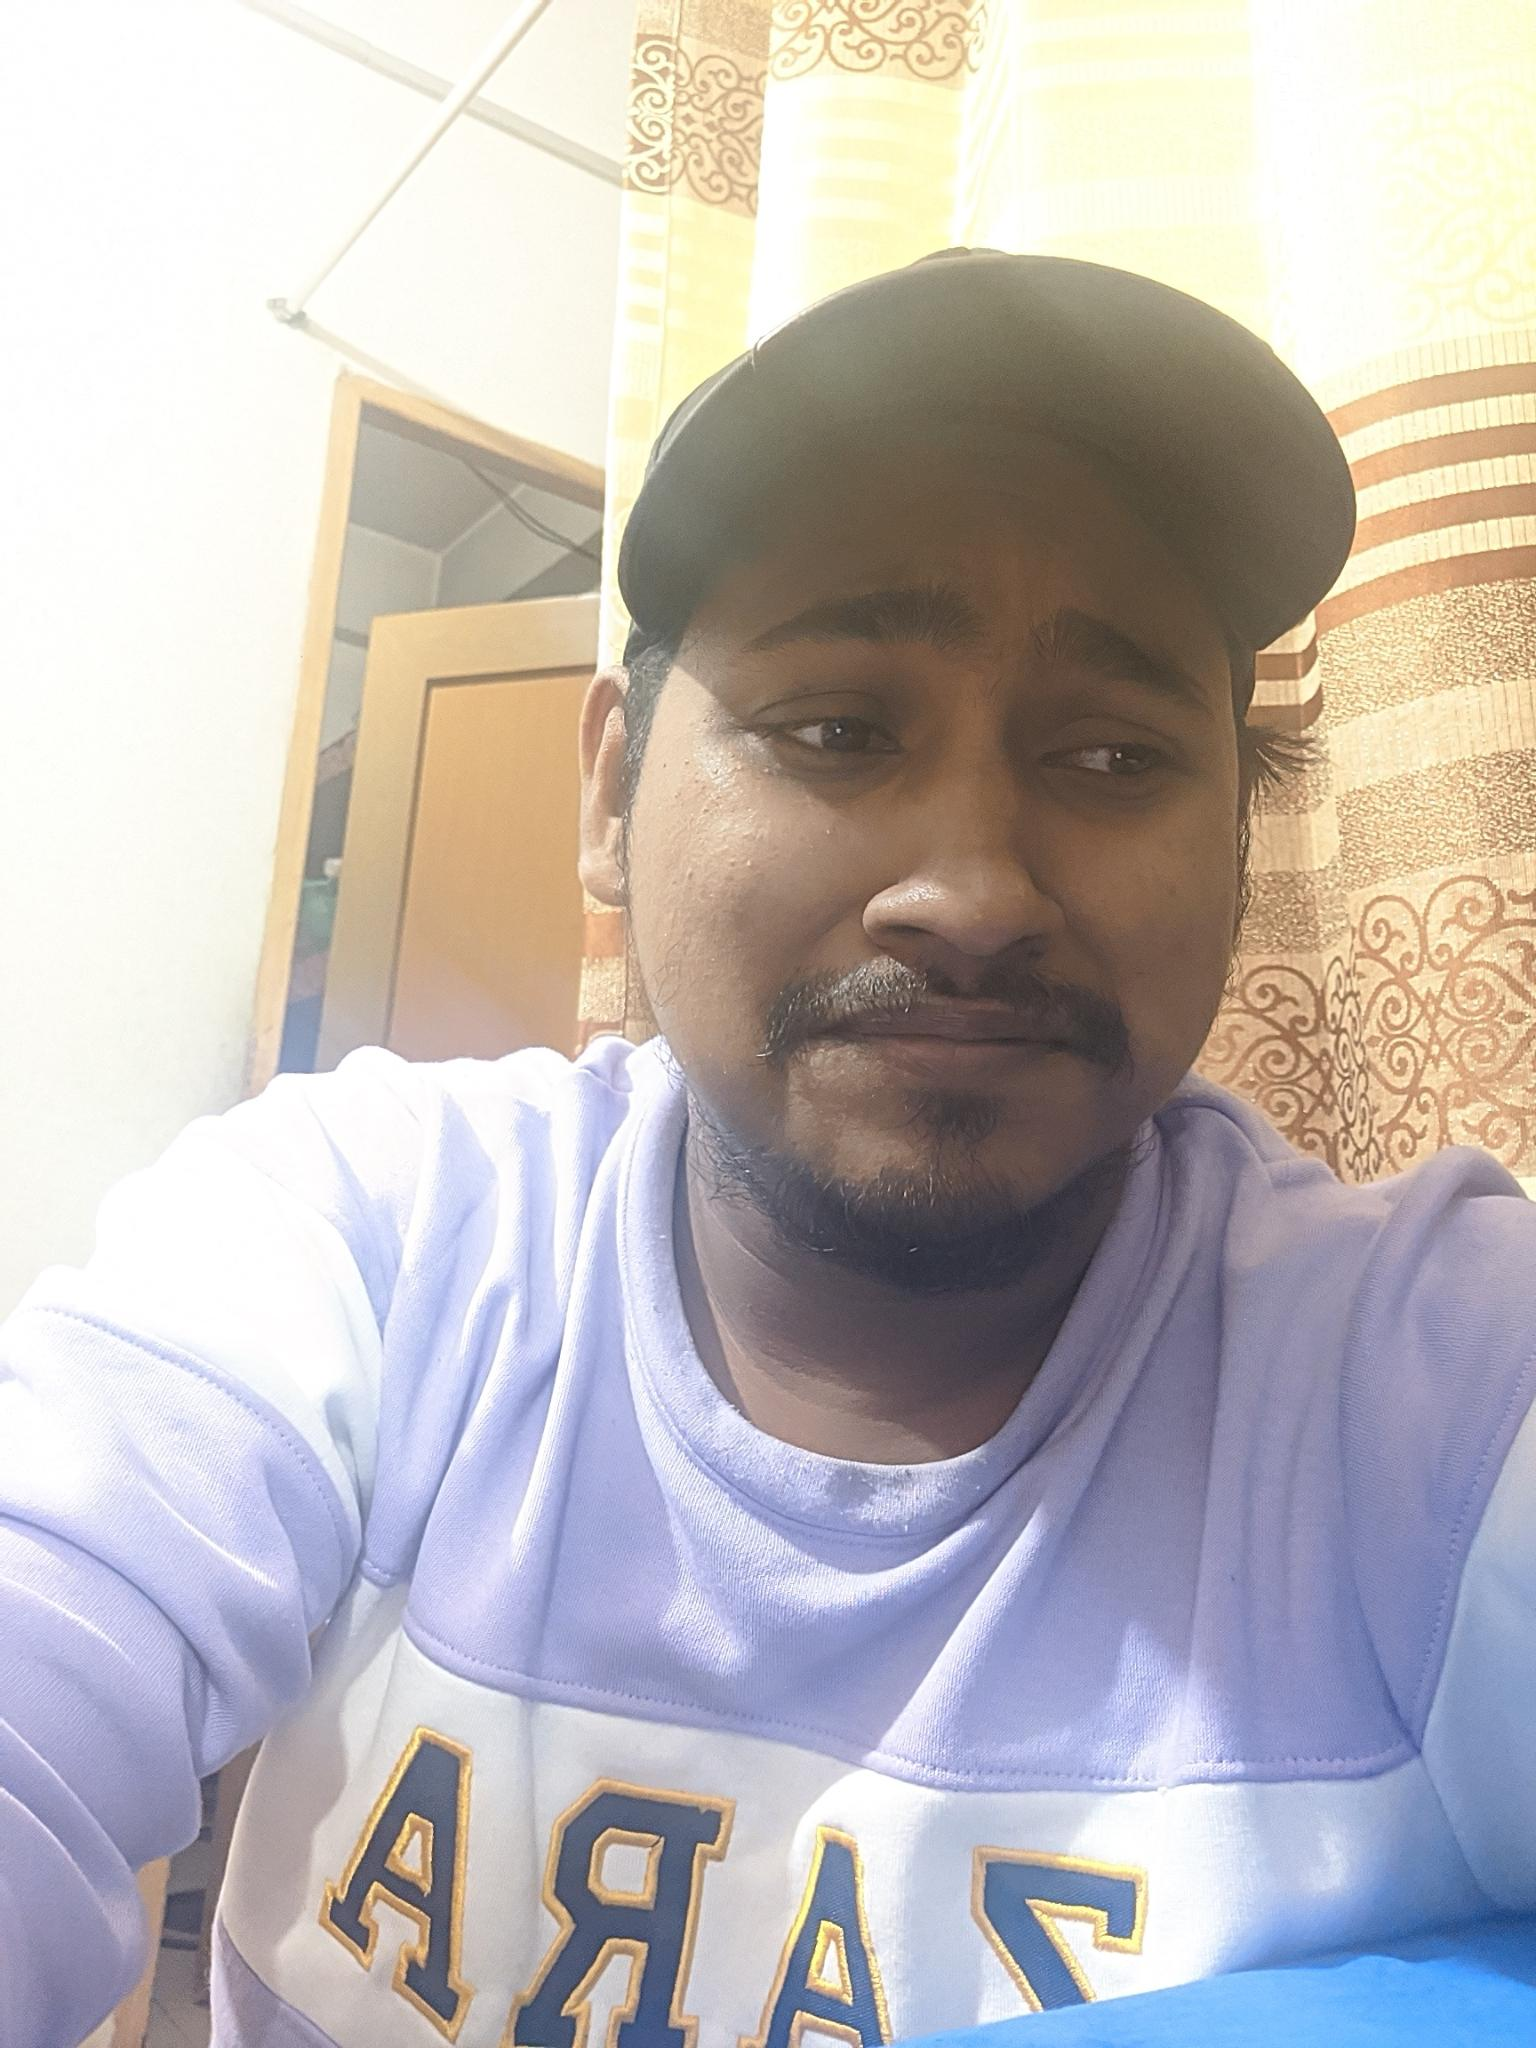Sad: (655, 526, 1262, 1222)
